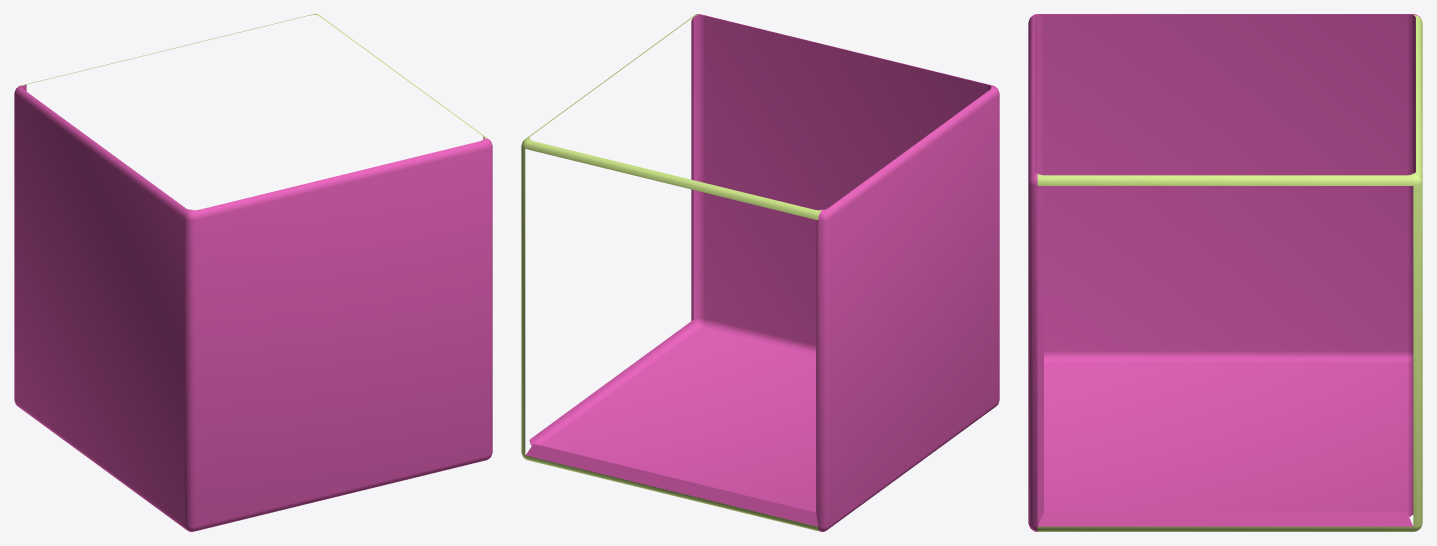
3 views of the same model, side by side, from view 1: azimuth 30°, elevation 25°; view 2: azimuth 150°, elevation 25°; view 3: azimuth 270°, elevation 25° (orthographic). The views are drawn at different scales.
Parts seen in each view (by area): view 1: 布尔_1; view 2: 布尔_1; view 3: 布尔_1.
Boxes of the visible parts, bbox=[...] form: 布尔_1: bbox=[14, 14, 492, 531]; 布尔_1: bbox=[521, 14, 999, 531]; 布尔_1: bbox=[1028, 14, 1422, 531].
Bounding box in the file's own units: 3000 × 3000 × 3000.
